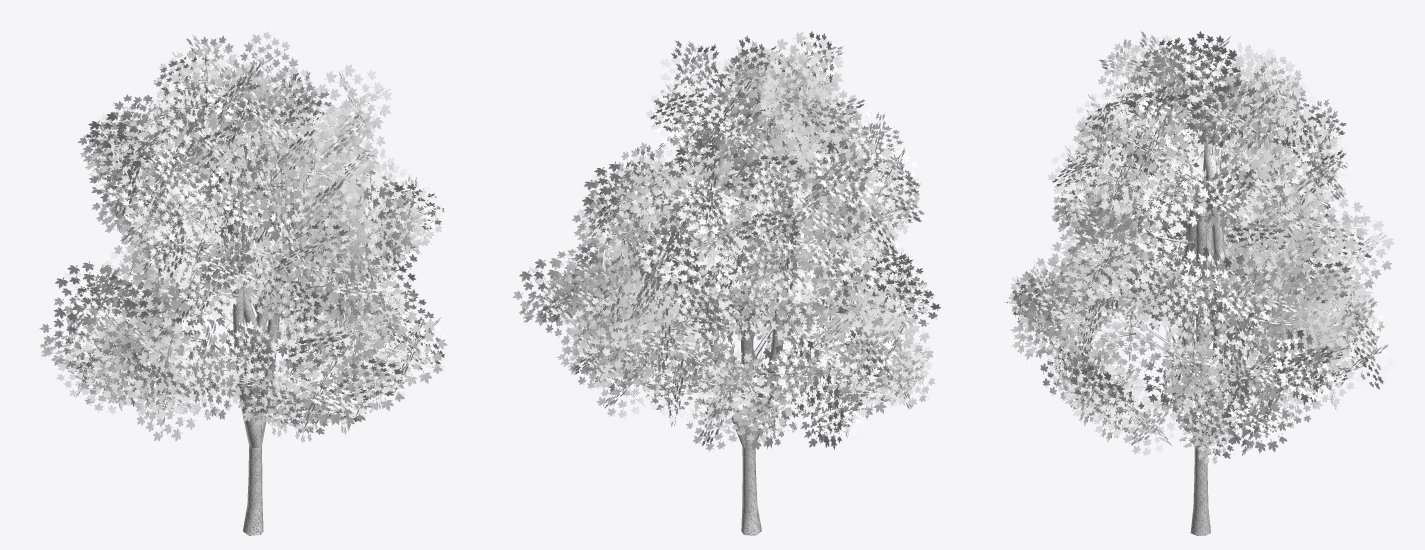
Rendered from SugarMaple_LOD0_P4314_B1734_L1200_v01.fbx.
3 renders of one model, left to right at view 1: azimuth 30°, elevation 25°; view 2: azimuth 150°, elevation 25°; view 3: azimuth 270°, elevation 25°, orthographic.
Parts seen in each view (by area): view 1: leafclumpatlas_maple_1, sugarmaplebarktextureseamless_0; view 2: leafclumpatlas_maple_1, sugarmaplebarktextureseamless_0; view 3: leafclumpatlas_maple_1, sugarmaplebarktextureseamless_0.
Boxes of the visible parts, bbox=[...] form: leafclumpatlas_maple_1: bbox=[39, 31, 448, 443]; sugarmaplebarktextureseamless_0: bbox=[142, 132, 356, 535]; leafclumpatlas_maple_1: bbox=[512, 31, 940, 450]; sugarmaplebarktextureseamless_0: bbox=[634, 120, 845, 535]; leafclumpatlas_maple_1: bbox=[1004, 31, 1394, 465]; sugarmaplebarktextureseamless_0: bbox=[1097, 135, 1294, 535].
Bounding box in the file's own units: 1221 × 1492 × 1152.
